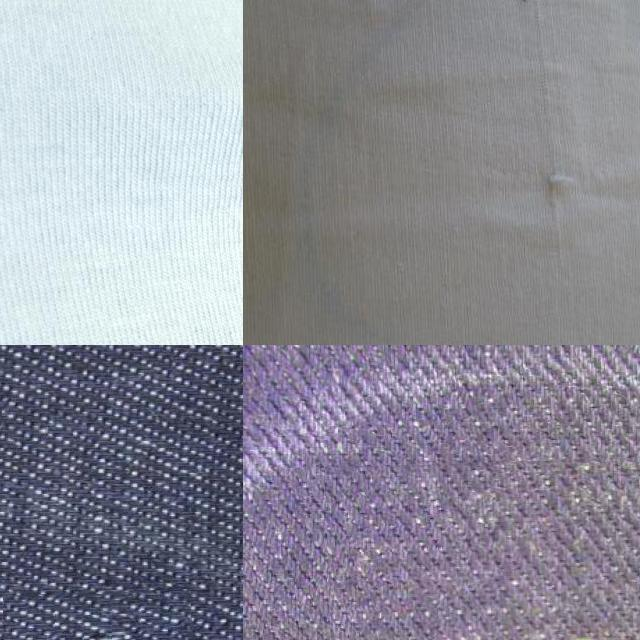stains: (326, 456, 640, 640), (475, 0, 640, 345), (2, 590, 192, 640)
